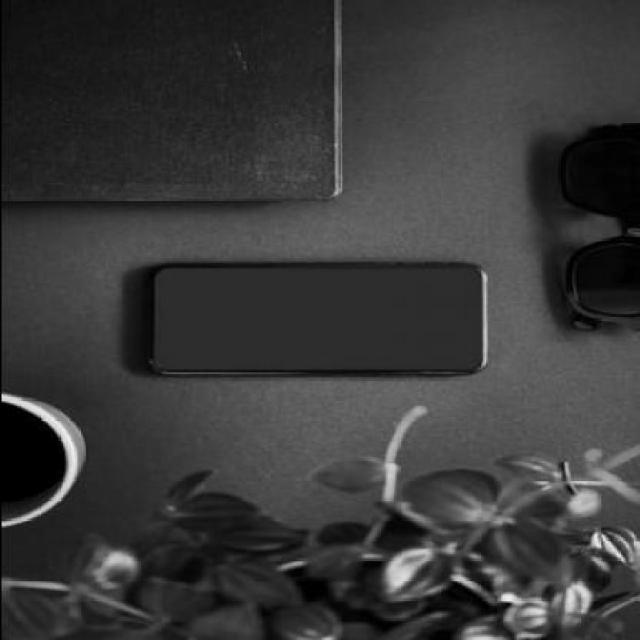fake: (137, 262, 492, 378)
